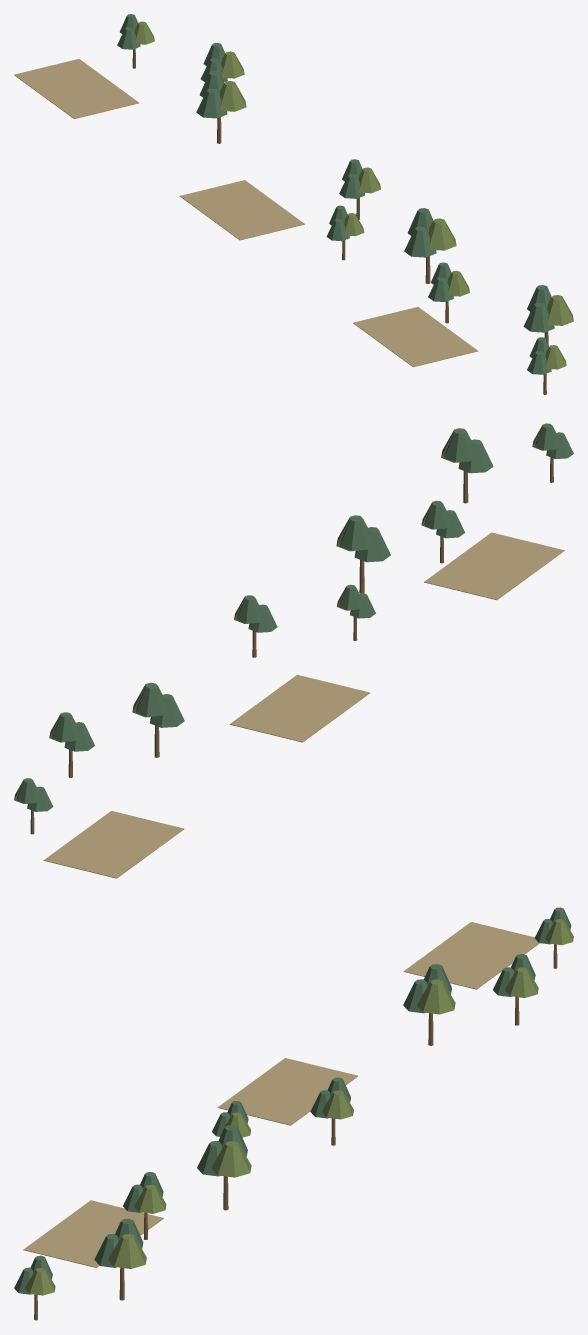
File: layout_route_grove.glb
3 renders of one model, top to bottom at view 1: azimuth 30°, elevation 25°; view 2: azimuth 150°, elevation 25°; view 3: azimuth 330°, elevation 25°, orthographic. The views are drawn at different scales.
Visible parts, largest first — view 1: route_grove_HarborLayout_sand, route_grove_HarborLayout_leaf, route_grove_HarborLayout_leaf_light, route_grove_HarborLayout_wood; view 2: route_grove_HarborLayout_sand, route_grove_HarborLayout_leaf, route_grove_HarborLayout_wood, route_grove_HarborLayout_leaf_light; view 3: route_grove_HarborLayout_sand, route_grove_HarborLayout_leaf_light, route_grove_HarborLayout_leaf, route_grove_HarborLayout_wood.
Boxes of the visible parts, left/top/right/bottom form: route_grove_HarborLayout_sand: left=14, top=59, right=477, bottom=367; route_grove_HarborLayout_leaf: left=117, top=14, right=554, bottom=374; route_grove_HarborLayout_leaf_light: left=135, top=21, right=573, bottom=369; route_grove_HarborLayout_wood: left=132, top=49, right=548, bottom=394; route_grove_HarborLayout_sand: left=43, top=532, right=564, bottom=878; route_grove_HarborLayout_leaf: left=16, top=424, right=573, bottom=811; route_grove_HarborLayout_wood: left=30, top=457, right=553, bottom=834; route_grove_HarborLayout_leaf_light: left=14, top=423, right=556, bottom=803; route_grove_HarborLayout_sand: left=23, top=922, right=539, bottom=1267; route_grove_HarborLayout_leaf_light: left=25, top=919, right=573, bottom=1295; route_grove_HarborLayout_leaf: left=14, top=907, right=571, bottom=1294; route_grove_HarborLayout_wood: left=34, top=944, right=557, bottom=1320.
Bounding box in the file's own units: 11.08 × 5.06 × 62.21.
